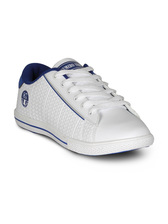shoes: (6, 60, 159, 160)
